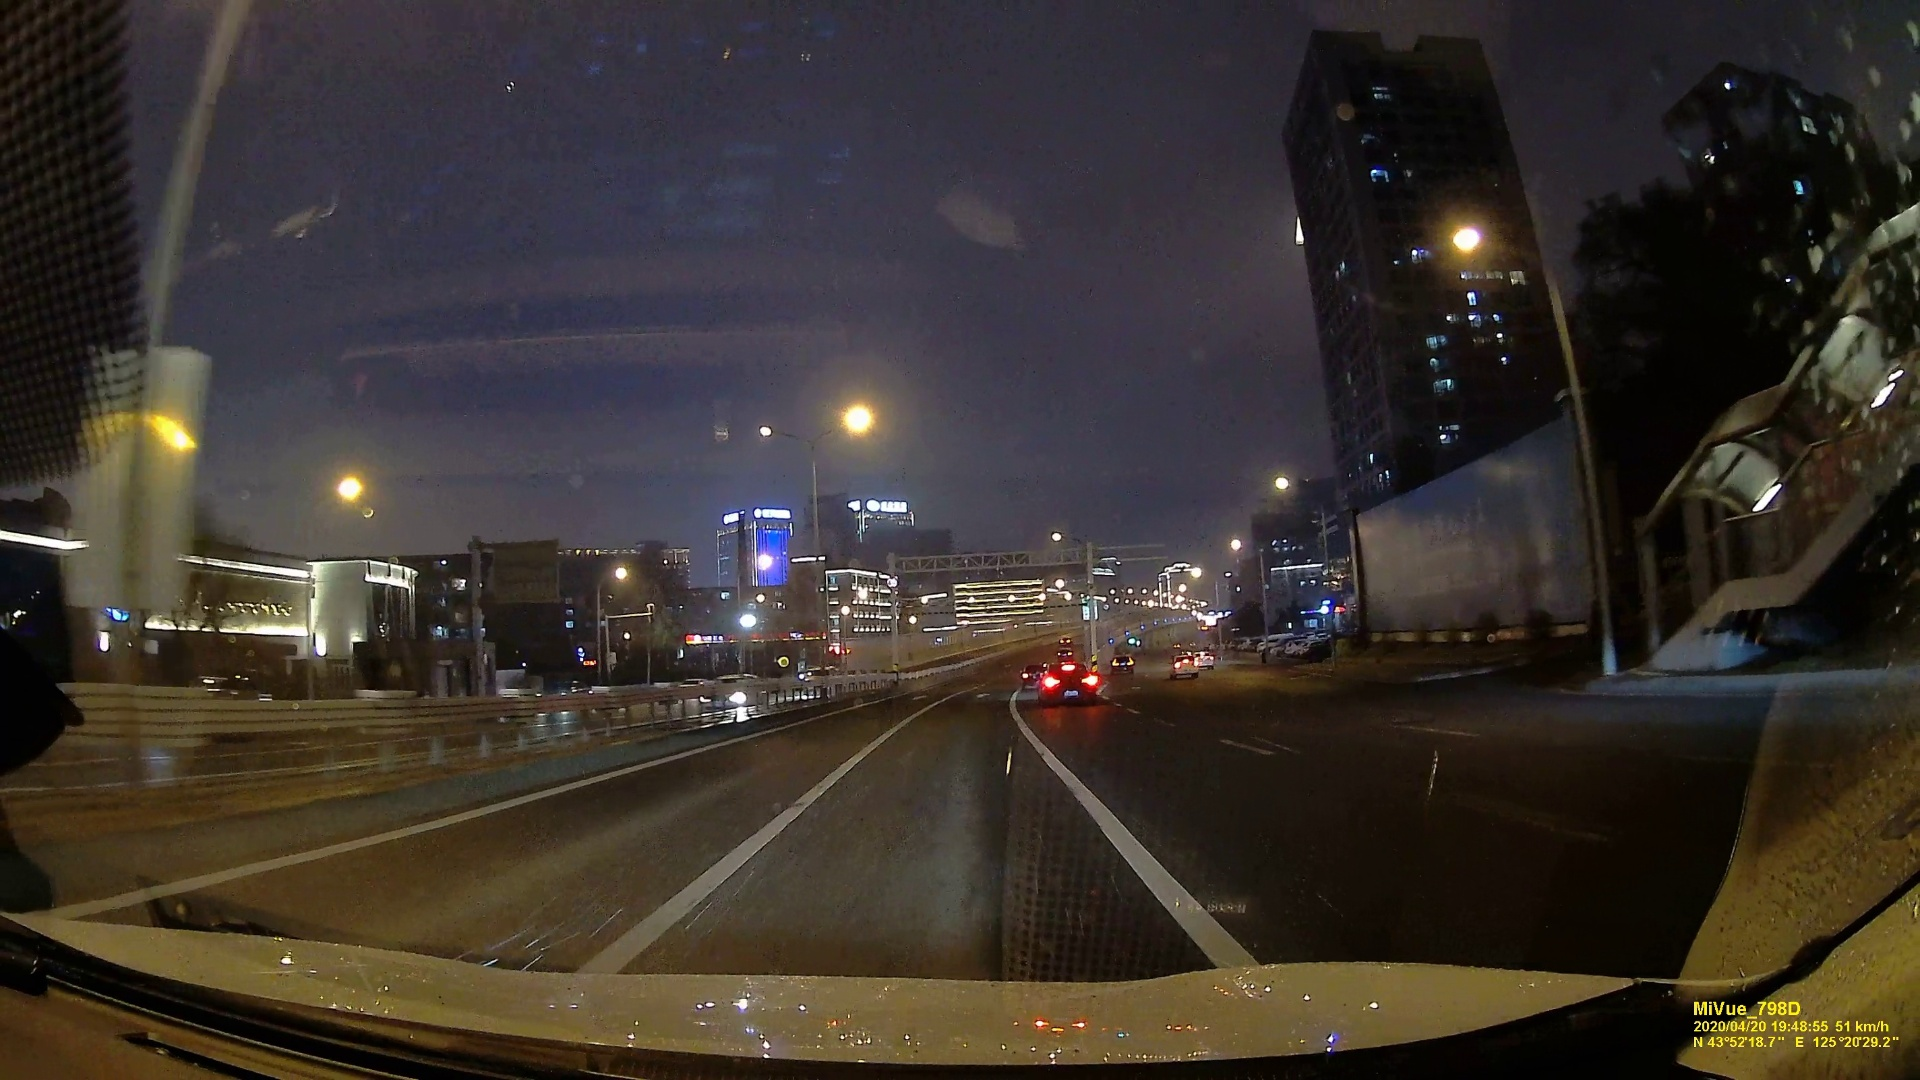vehicle: (1040, 662, 1100, 705), (1171, 655, 1199, 678), (1109, 653, 1135, 674)
